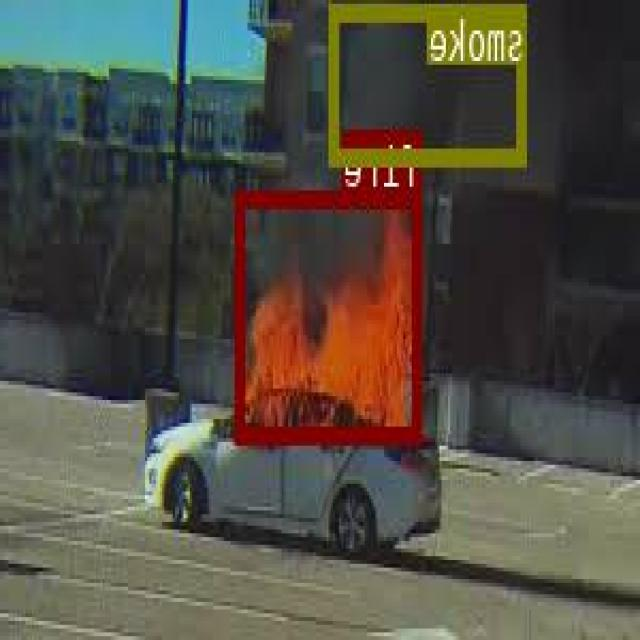fire: (239, 187, 424, 438)
smoke: (332, 3, 527, 163)
